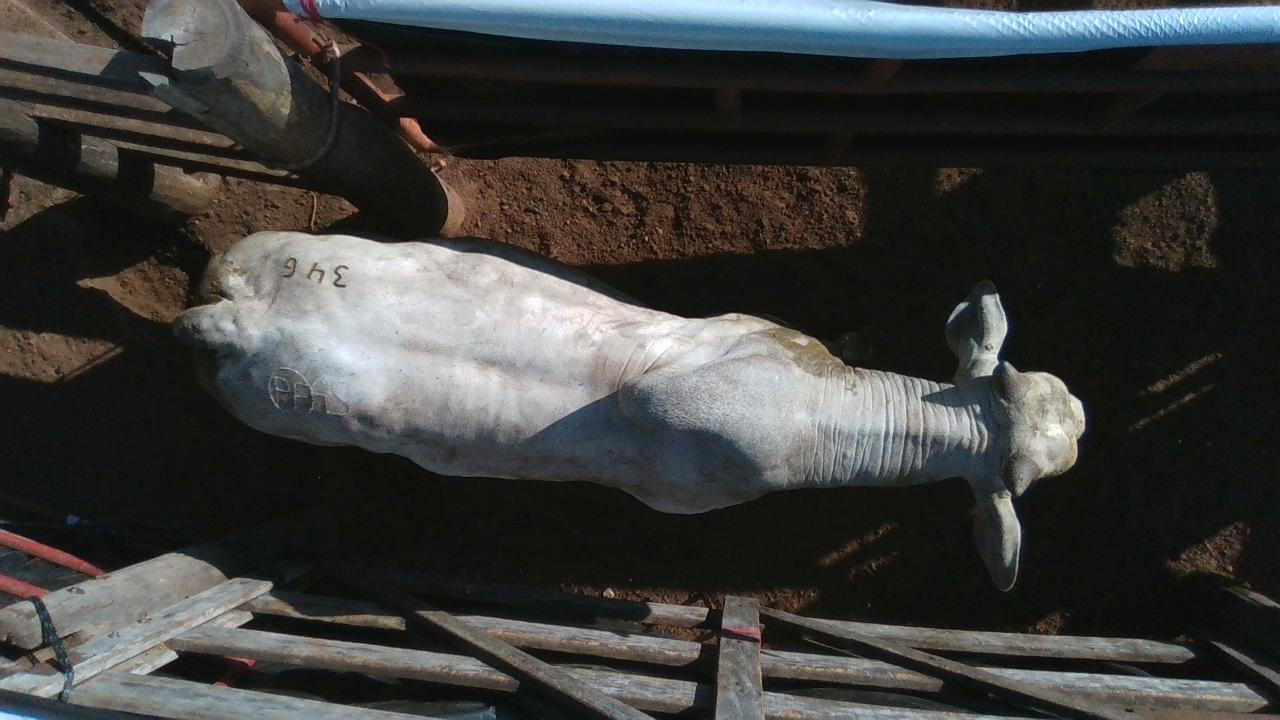cattle: (170, 227, 1087, 592)
